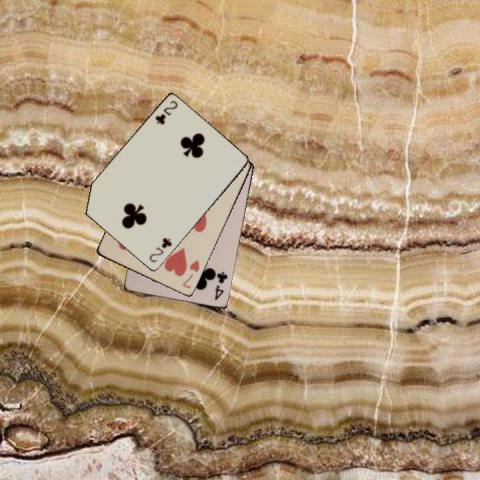2c: (146, 235, 173, 264), (152, 98, 179, 126)
4c: (212, 269, 229, 302)
7h: (179, 257, 201, 291)
